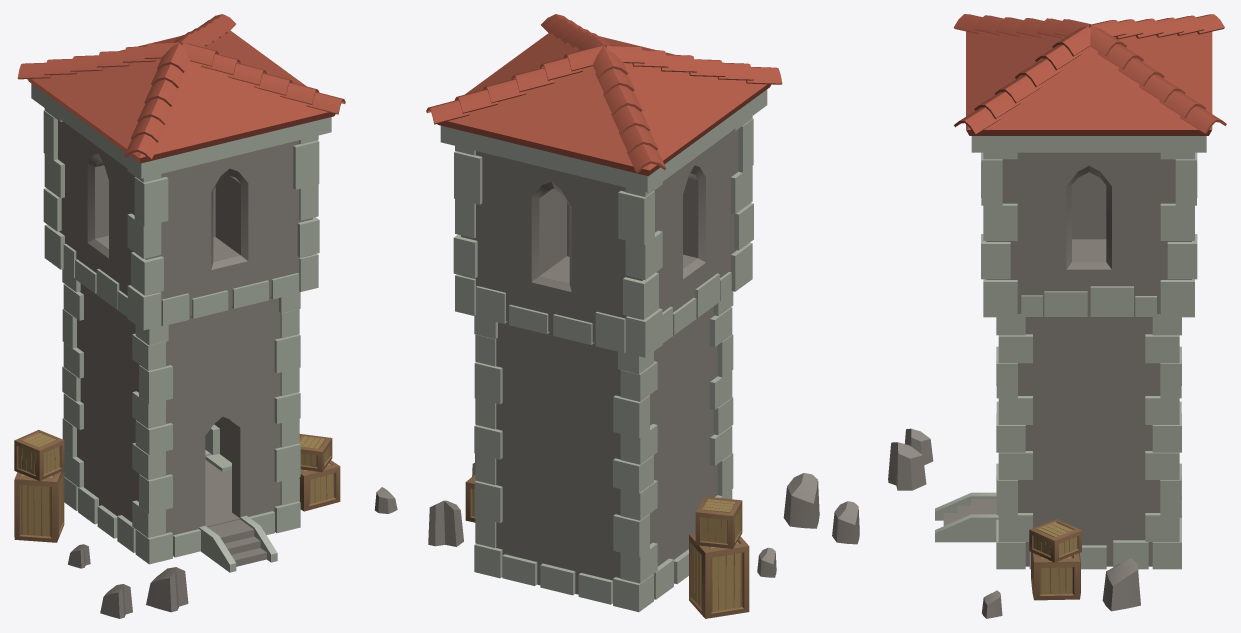
File: quaternius-ultimate-fantasy-rts-watchtower-secondage-level-1.glb
3 renders of one model, left to right at view 1: azimuth 30°, elevation 25°; view 2: azimuth 150°, elevation 25°; view 3: azimuth 270°, elevation 25°, orthographic. The views are drawn at different scales.
Parts seen in each view (by area): view 1: WatchTower_SecondAge_Level1; view 2: WatchTower_SecondAge_Level1; view 3: WatchTower_SecondAge_Level1.
Boxes of the visible parts, bbox=[...] form: WatchTower_SecondAge_Level1: bbox=[14, 14, 397, 618]; WatchTower_SecondAge_Level1: bbox=[426, 14, 859, 618]; WatchTower_SecondAge_Level1: bbox=[888, 14, 1226, 618].
Bounding box in the file's own units: 0.857 × 1.2 × 0.7227.
Materials: 1 (1 with a texture image).
